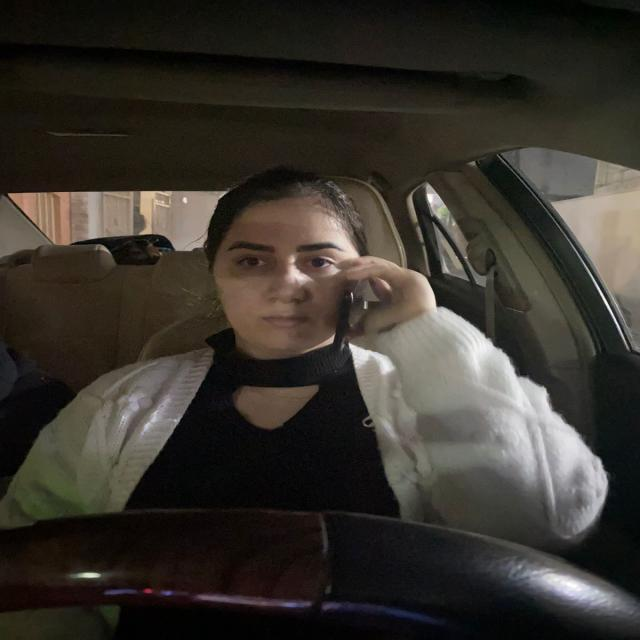mobile: (327, 278, 362, 380)
person: (201, 166, 368, 354)
